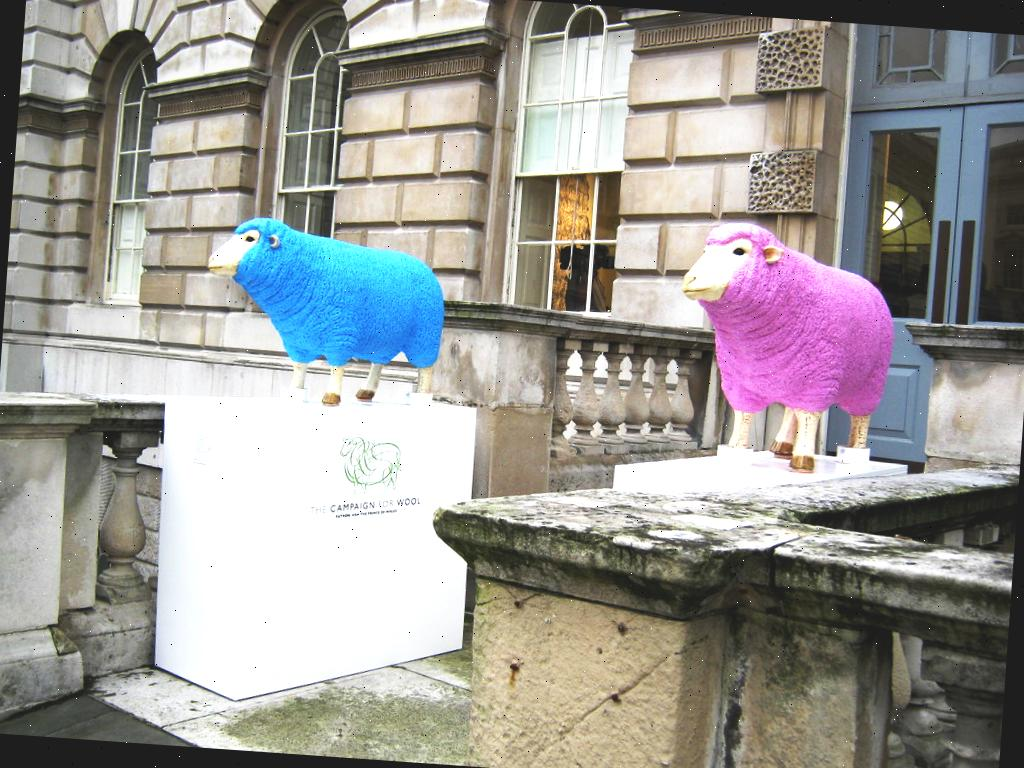Sheep: (637, 212, 915, 490), (197, 213, 453, 418)
